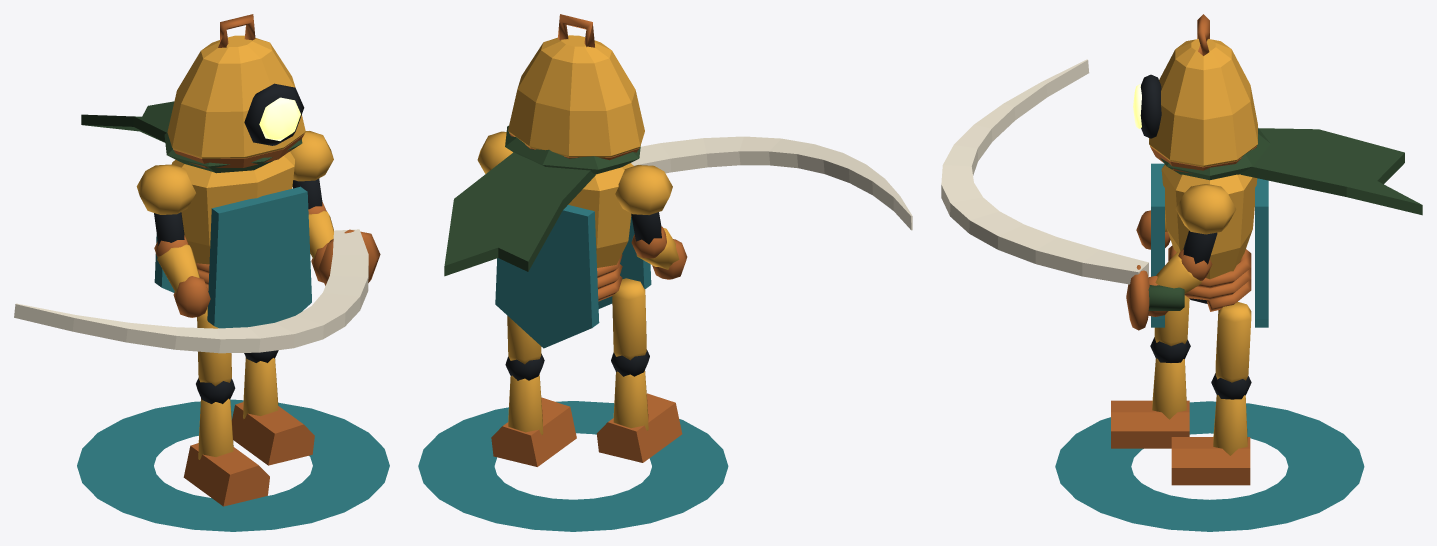
The model's file is coilblade.glb.
The picture shows the model from 3 angles, left to right: view 1: azimuth 30°, elevation 25°; view 2: azimuth 150°, elevation 25°; view 3: azimuth 270°, elevation 25°; orthographic projection.
Parts seen in each view (by area): view 1: ME_CM_R1_coilblade_river_ground_mark, ME_CM_R1_coilblade_broad_team_tabard_front, ME_CM_R1_coilblade_sunrise_crescent, ME_CM_R1_coilblade_flared_kiln_bell, ME_CM_R1_coilblade_copper_chest, ME_CM_R1_coilblade_left_splayed_sabaton, ME_CM_R1_coilblade_right_splayed_sabaton, ME_CM_R1_coilblade_left_shoulder, ME_CM_R1_coilblade_left_shin, ME_CM_R1_coilblade_right_shin, ME_CM_R1_coilblade_broad_trailing_scarf, ME_CM_R1_coilblade_right_shoulder (+13 smaller); view 2: ME_CM_R1_coilblade_river_ground_mark, ME_CM_R1_coilblade_flared_kiln_bell, ME_CM_R1_coilblade_broad_trailing_scarf, ME_CM_R1_coilblade_broad_team_tabard_back, ME_CM_R1_coilblade_sunrise_crescent, ME_CM_R1_coilblade_copper_chest, ME_CM_R1_coilblade_left_splayed_sabaton, ME_CM_R1_coilblade_right_splayed_sabaton, ME_CM_R1_coilblade_left_thigh, ME_CM_R1_coilblade_left_shoulder, ME_CM_R1_coilblade_moss_scarf_collar, ME_CM_R1_coilblade_left_shin (+11 smaller); view 3: ME_CM_R1_coilblade_river_ground_mark, ME_CM_R1_coilblade_sunrise_crescent, ME_CM_R1_coilblade_flared_kiln_bell, ME_CM_R1_coilblade_broad_trailing_scarf, ME_CM_R1_coilblade_copper_chest, ME_CM_R1_coilblade_right_splayed_sabaton, ME_CM_R1_coilblade_left_splayed_sabaton, ME_CM_R1_coilblade_right_thigh, ME_CM_R1_coilblade_right_shoulder, ME_CM_R1_coilblade_broad_team_tabard_back, ME_CM_R1_coilblade_three_turn_spring, ME_CM_R1_coilblade_right_shin (+11 smaller).
Boxes of the visible parts, left/top/right/bottom form: ME_CM_R1_coilblade_river_ground_mark: left=77, top=399, right=389, bottom=531; ME_CM_R1_coilblade_broad_team_tabard_front: left=207, top=186, right=311, bottom=328; ME_CM_R1_coilblade_sunrise_crescent: left=14, top=229, right=368, bottom=353; ME_CM_R1_coilblade_flared_kiln_bell: left=167, top=35, right=305, bottom=158; ME_CM_R1_coilblade_copper_chest: left=172, top=151, right=294, bottom=264; ME_CM_R1_coilblade_left_splayed_sabaton: left=183, top=443, right=269, bottom=506; ME_CM_R1_coilblade_right_splayed_sabaton: left=232, top=402, right=314, bottom=465; ME_CM_R1_coilblade_left_shoulder: left=136, top=164, right=195, bottom=214; ME_CM_R1_coilblade_left_shin: left=198, top=398, right=233, bottom=459; ME_CM_R1_coilblade_right_shin: left=243, top=357, right=278, bottom=418; ME_CM_R1_coilblade_broad_trailing_scarf: left=81, top=101, right=174, bottom=142; ME_CM_R1_coilblade_right_shoulder: left=290, top=131, right=333, bottom=181; ME_CM_R1_coilblade_river_ground_mark: left=418, top=401, right=728, bottom=531; ME_CM_R1_coilblade_flared_kiln_bell: left=508, top=35, right=644, bottom=157; ME_CM_R1_coilblade_broad_trailing_scarf: left=444, top=152, right=595, bottom=276; ME_CM_R1_coilblade_broad_team_tabard_back: left=495, top=205, right=599, bottom=348; ME_CM_R1_coilblade_sunrise_crescent: left=631, top=136, right=912, bottom=230; ME_CM_R1_coilblade_copper_chest: left=568, top=163, right=633, bottom=267; ME_CM_R1_coilblade_left_splayed_sabaton: left=596, top=393, right=682, bottom=462; ME_CM_R1_coilblade_right_splayed_sabaton: left=491, top=397, right=576, bottom=466; ME_CM_R1_coilblade_left_thigh: left=612, top=278, right=646, bottom=360; ME_CM_R1_coilblade_left_shoulder: left=615, top=165, right=672, bottom=214; ME_CM_R1_coilblade_moss_scarf_collar: left=505, top=125, right=640, bottom=174; ME_CM_R1_coilblade_left_shin: left=613, top=370, right=648, bottom=430; ME_CM_R1_coilblade_river_ground_mark: left=1055, top=401, right=1364, bottom=531; ME_CM_R1_coilblade_sunrise_crescent: left=941, top=59, right=1148, bottom=284; ME_CM_R1_coilblade_flared_kiln_bell: left=1149, top=39, right=1257, bottom=166; ME_CM_R1_coilblade_broad_trailing_scarf: left=1240, top=128, right=1422, bottom=215; ME_CM_R1_coilblade_copper_chest: left=1161, top=164, right=1257, bottom=279; ME_CM_R1_coilblade_right_splayed_sabaton: left=1171, top=437, right=1250, bottom=485; ME_CM_R1_coilblade_left_splayed_sabaton: left=1111, top=400, right=1189, bottom=448; ME_CM_R1_coilblade_right_thigh: left=1215, top=301, right=1251, bottom=382; ME_CM_R1_coilblade_right_shoulder: left=1175, top=184, right=1236, bottom=234; ME_CM_R1_coilblade_broad_team_tabard_back: left=1255, top=178, right=1268, bottom=327; ME_CM_R1_coilblade_three_turn_spring: left=1168, top=245, right=1251, bottom=311; ME_CM_R1_coilblade_right_shin: left=1213, top=395, right=1247, bottom=455.
Bounding box in the file's own units: 1.87 × 1.94 × 1.9.
